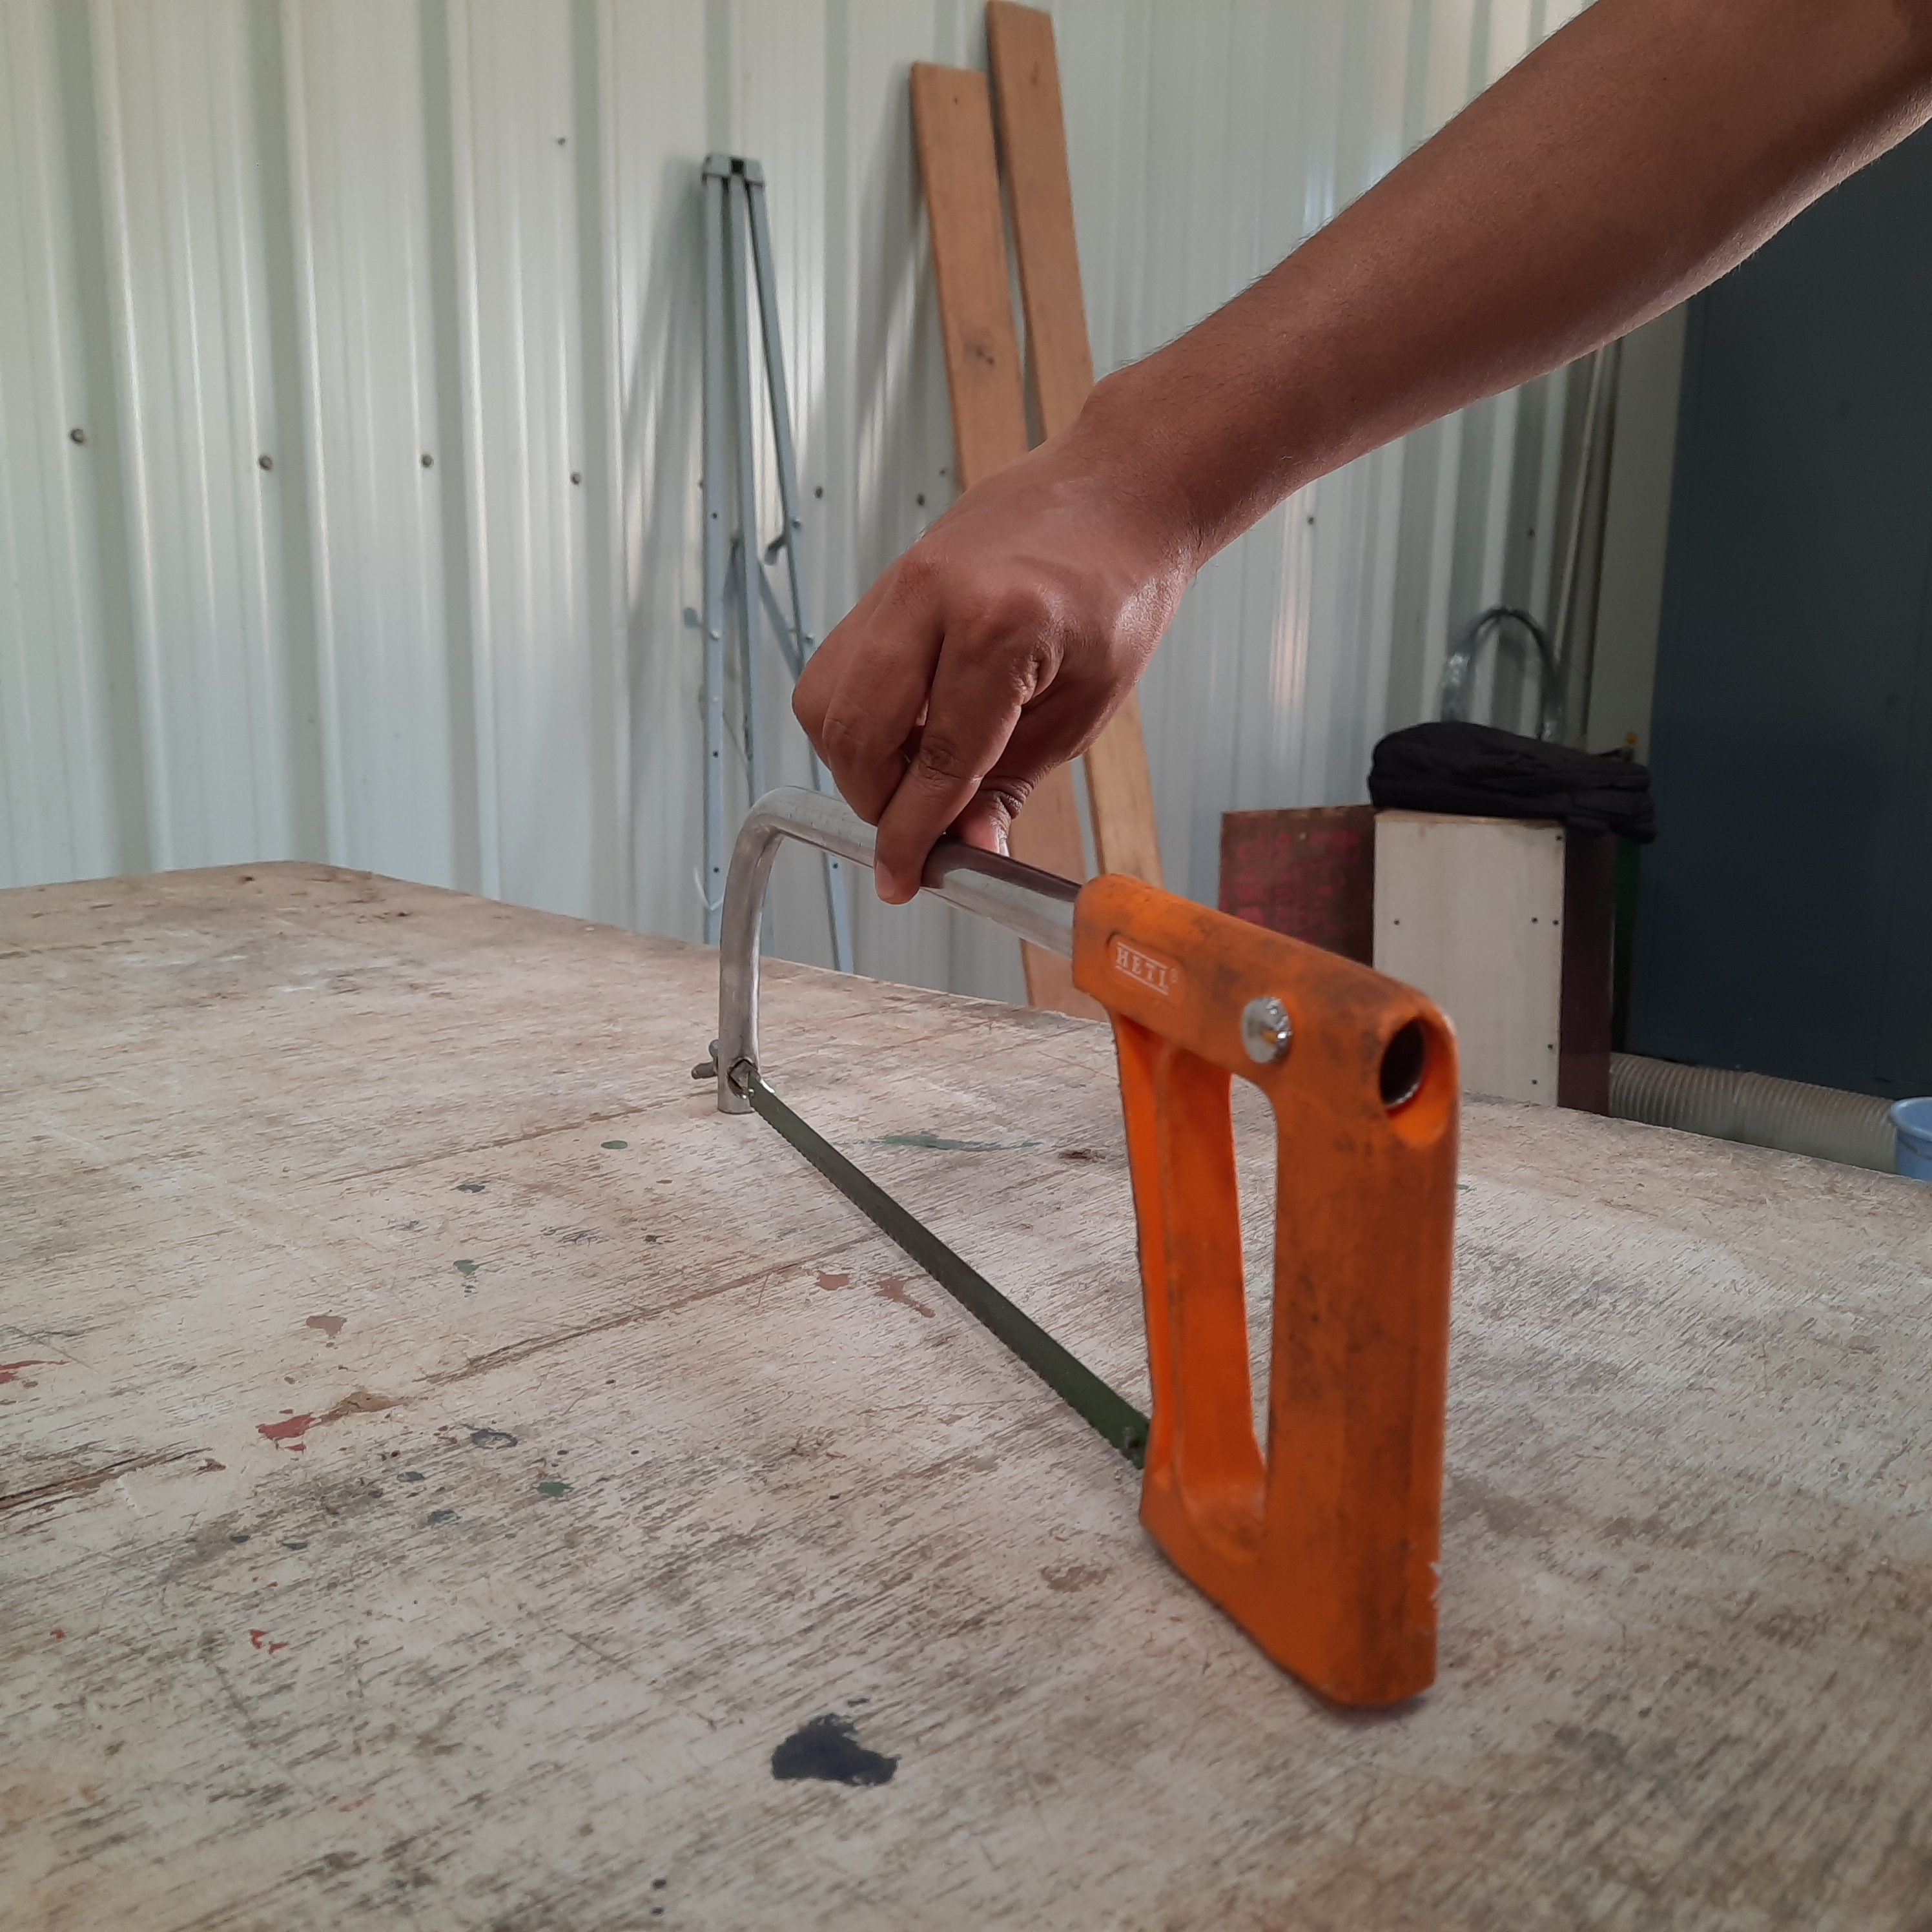Hexaframe: (685, 748, 1571, 1773)
